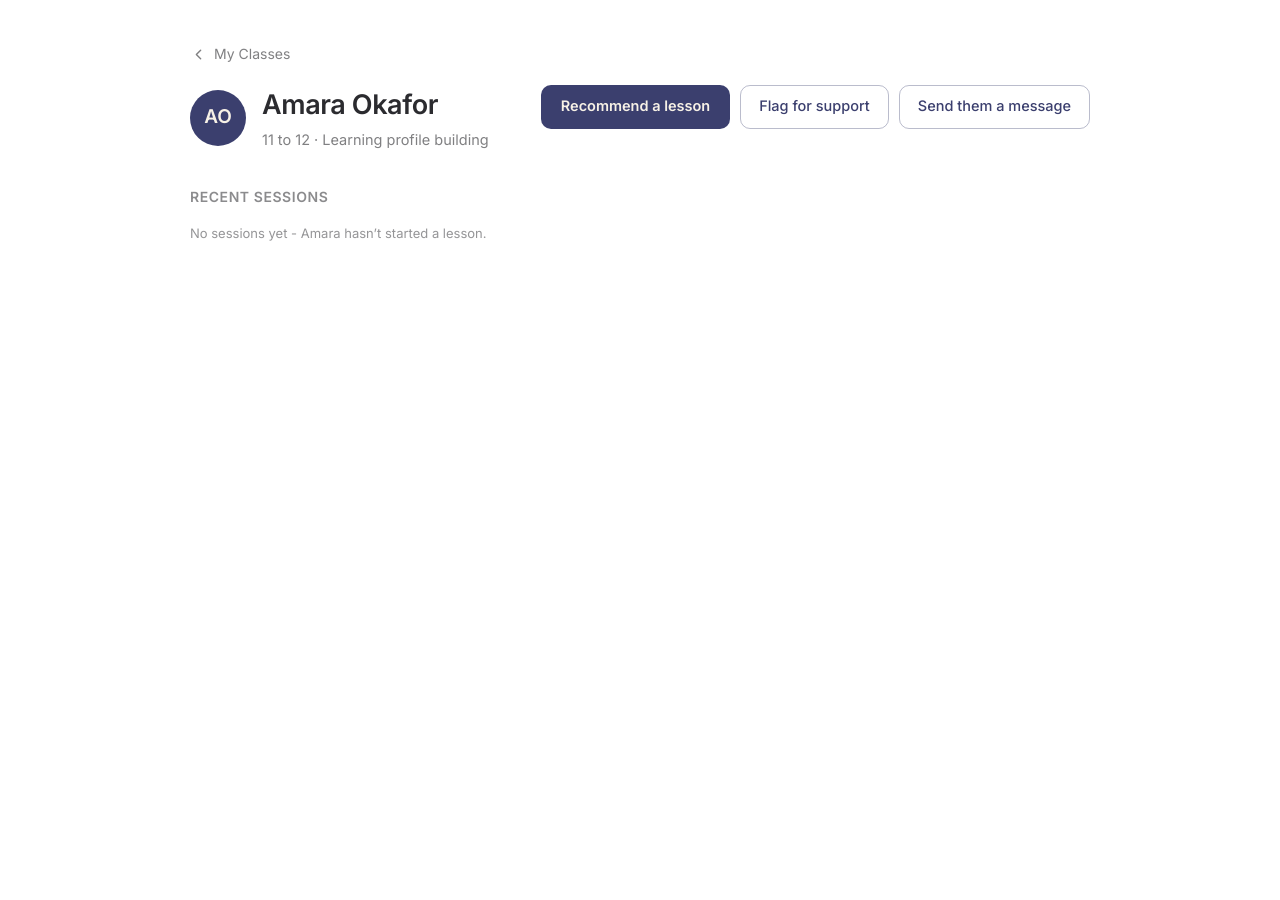
the quiet note › appears once the escalation is stored, with the confirmation
Click the button "Flag for support" at (814, 106), box [740,84,889,128]
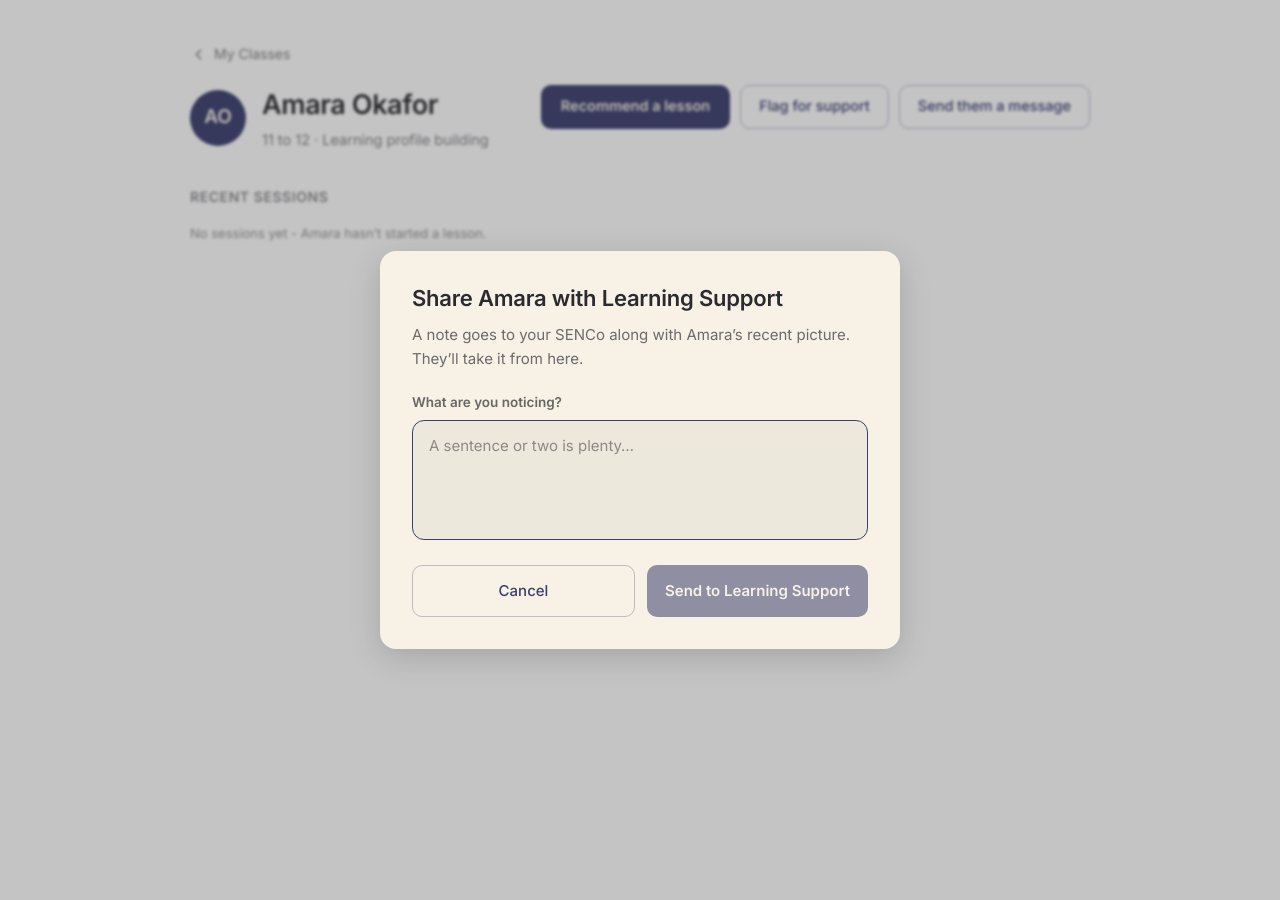
Type "She has gone very quiet in group work." into the text box at (640, 480), box [412,420,868,540]
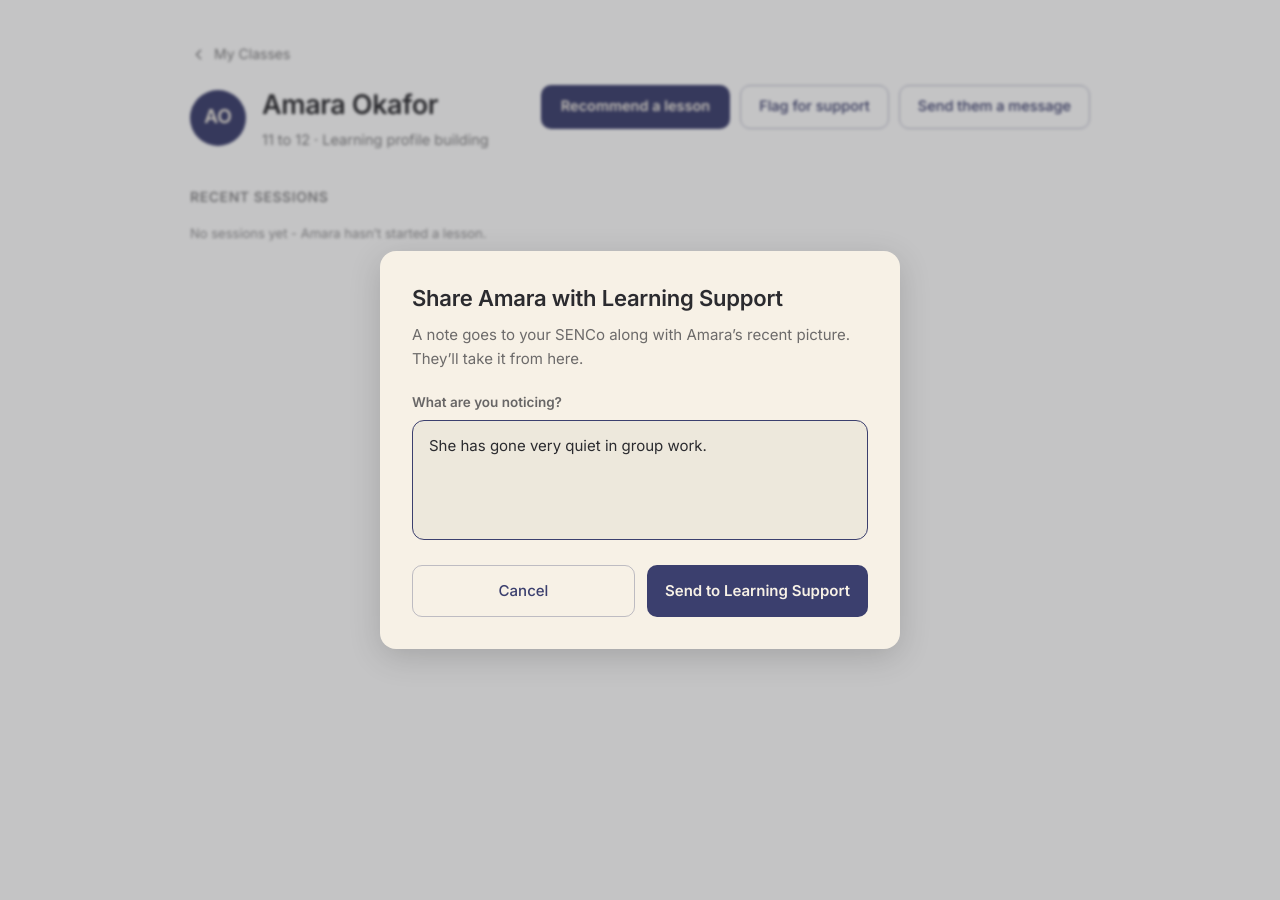
Click the button "Send to Learning Support" at (758, 591), box [647,565,868,617]
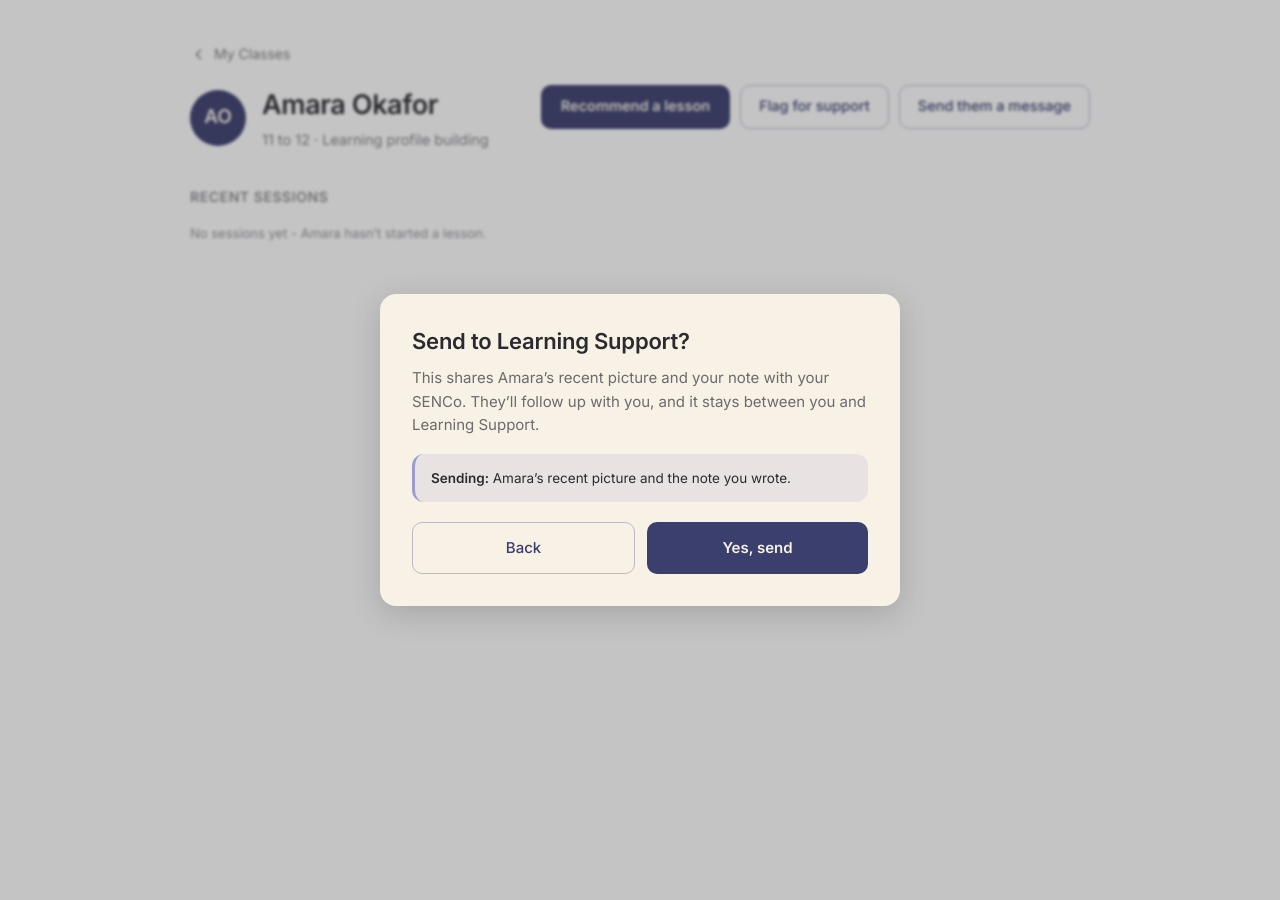
Click the button "Yes, send" at (758, 548), box [647,522,868,574]
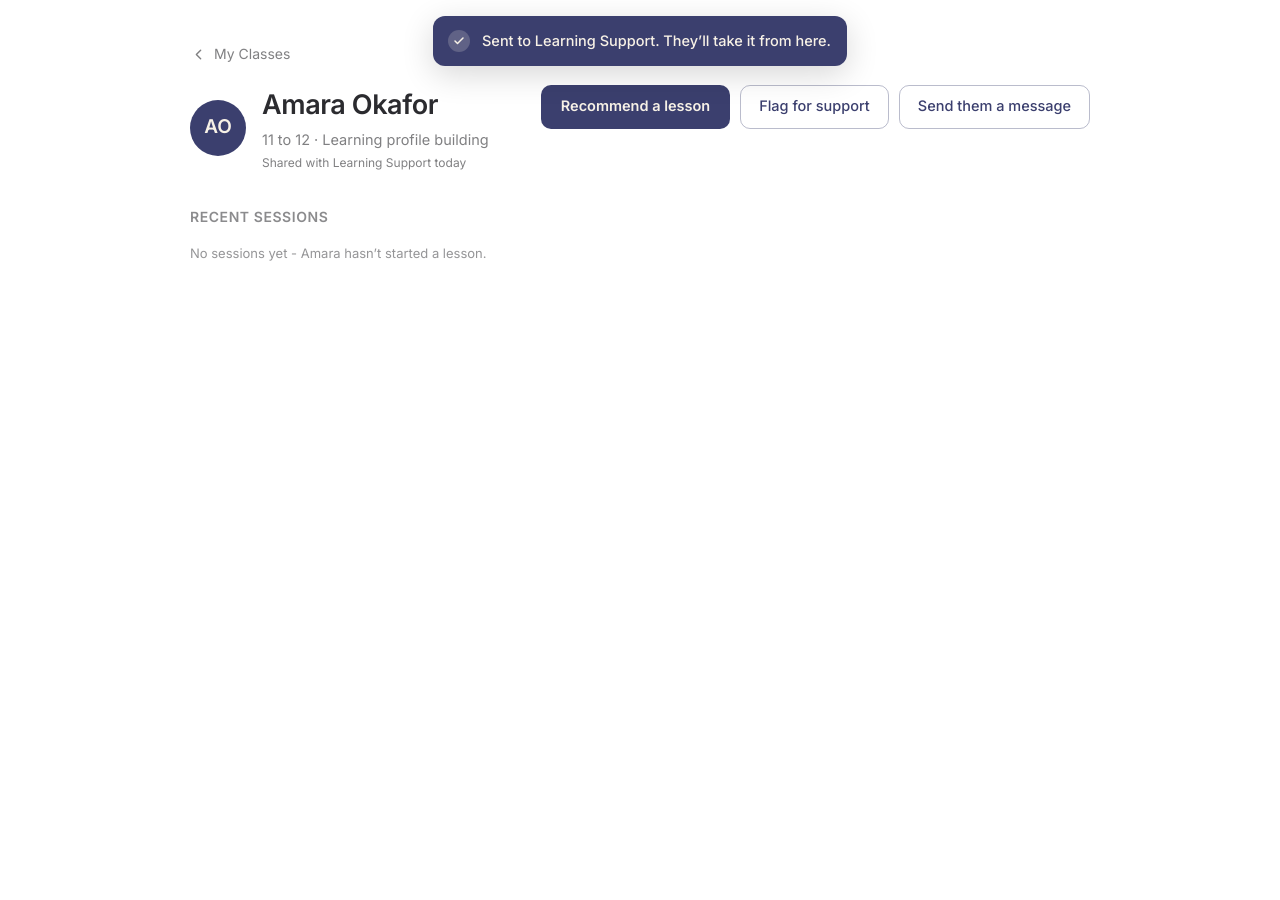
Expected: the text "Shared with Learning Support today" is shown, [262,155,489,171]
Expected: the text "Sent to Learning Support. They’ll take it from here." is shown, [482,31,831,51]
Expected: the dialog is gone
